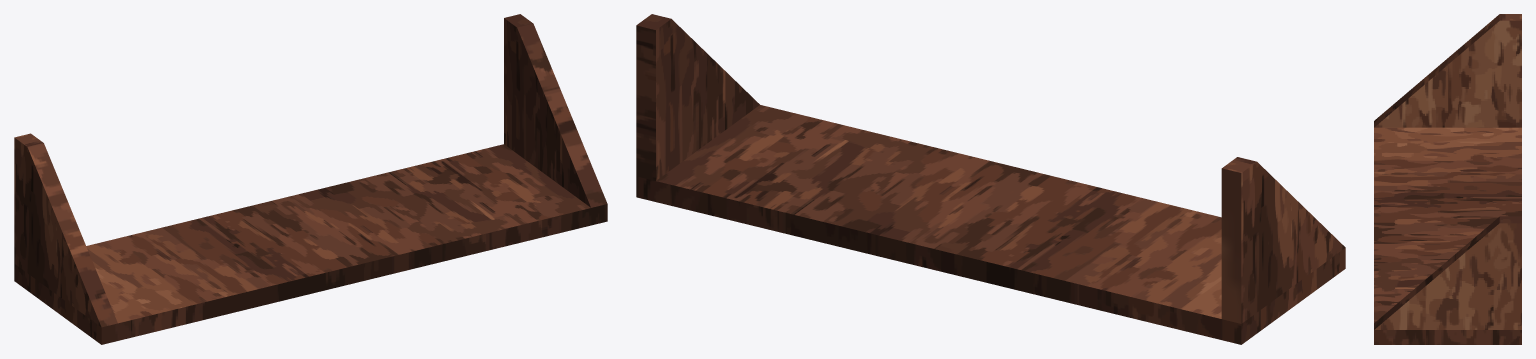
The model's file is Shelf.fbx.
3 views of the same model, side by side, from view 1: azimuth 30°, elevation 25°; view 2: azimuth 150°, elevation 25°; view 3: azimuth 270°, elevation 25° (orthographic). The views are drawn at different scales.
Parts seen in each view (by area): view 1: pCube1; view 2: pCube1; view 3: pCube1.
Boxes of the visible parts, x1,y1,x2,y2 form: pCube1: [14, 14, 607, 344]; pCube1: [636, 14, 1345, 344]; pCube1: [1374, 14, 1521, 344].
Size of the model in its own units: 13.56 by 3.68 by 4.05.
